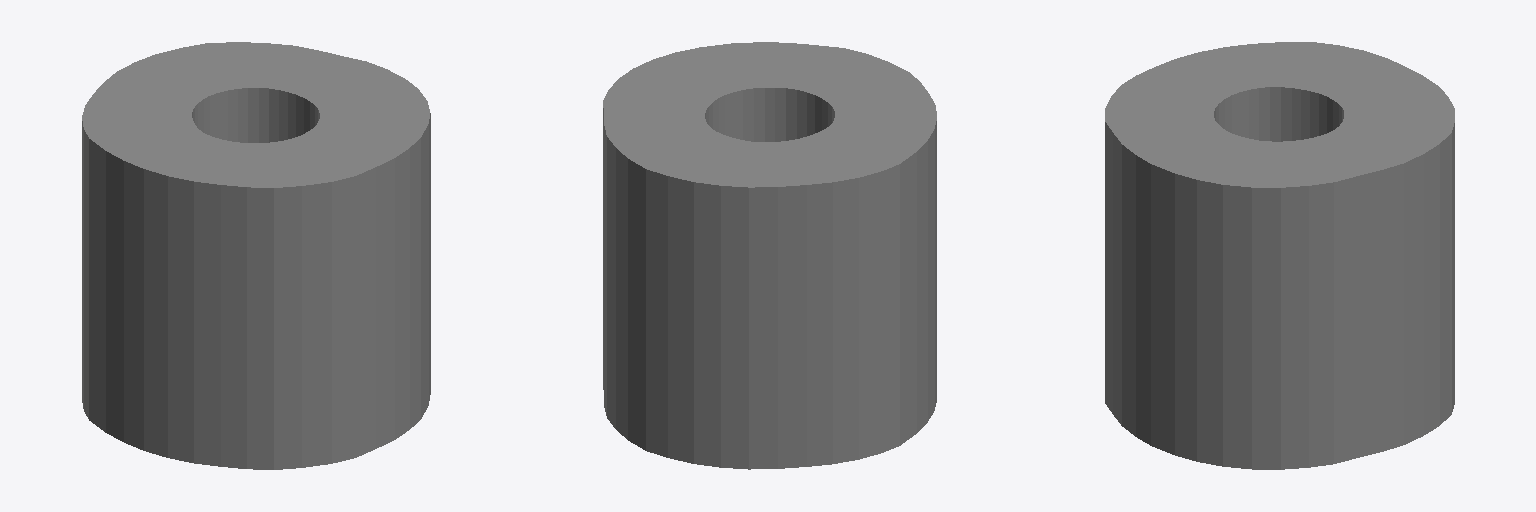
The model's file is ToiletPaperRoll.obj.
3 renders of one model, left to right at view 1: azimuth 30°, elevation 25°; view 2: azimuth 150°, elevation 25°; view 3: azimuth 270°, elevation 25°, orthographic.
Parts seen in each view (by area): view 1: ToiletPaperRoll; view 2: ToiletPaperRoll; view 3: ToiletPaperRoll.
Boxes of the visible parts, x1=… form: ToiletPaperRoll: x1=82, y1=42, x2=430, y2=469; ToiletPaperRoll: x1=603, y1=42, x2=936, y2=469; ToiletPaperRoll: x1=1105, y1=42, x2=1454, y2=469.
Size of the model in its own units: 4.28 by 3.86 by 4.34.